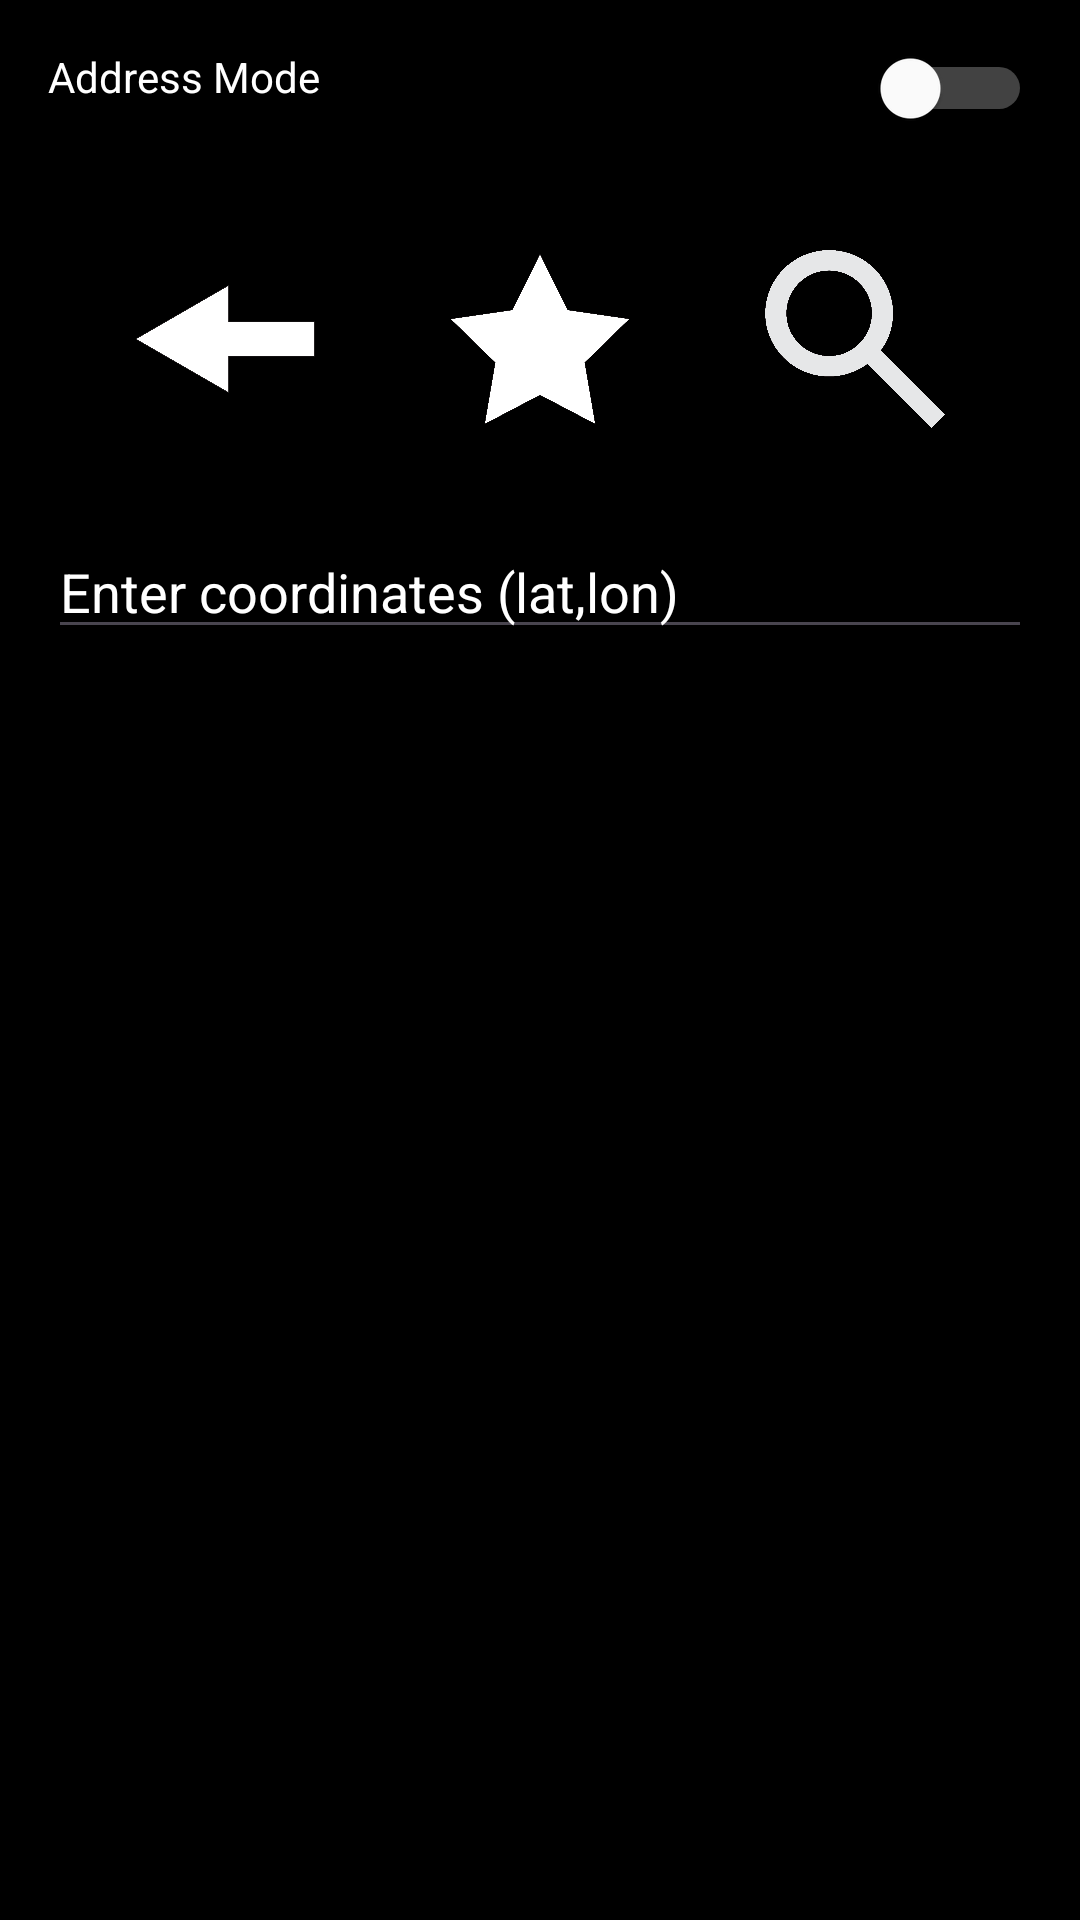

Where icons sit on this 1080 × 1920 app screen, as [left=x1, top=y1, right=x2, bottom=y2]:
back: [left=136, top=285, right=315, bottom=393]
favorite: [left=451, top=255, right=629, bottom=424]
search: [left=765, top=250, right=945, bottom=428]
